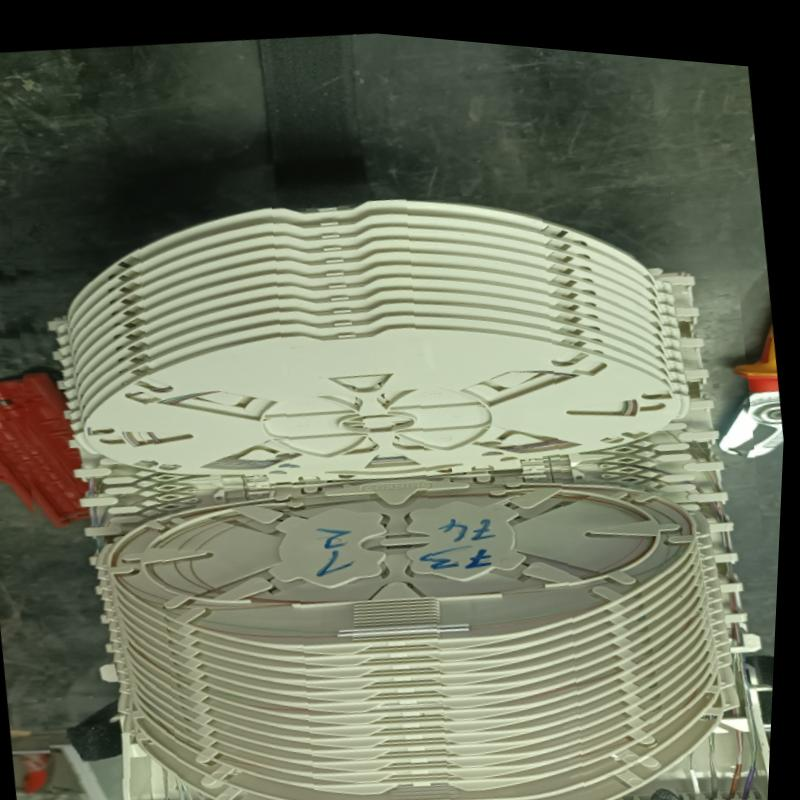NT-Muffen: (0, 117, 796, 800)
